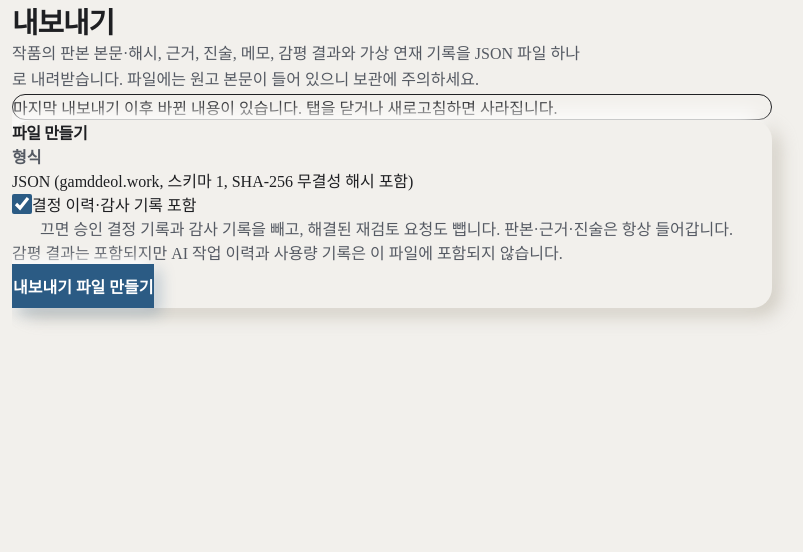
Test: 내보내기 저장 확인 › 이력 제외 파일은 누락을 알리고 저장 확인으로 변경 경고를 지우지 않는다
Later steps or results of the test are not shown.
Click the checkbox labelled "결정 이력·감사 기록 포함" at (22, 204), box [12,194,32,214]
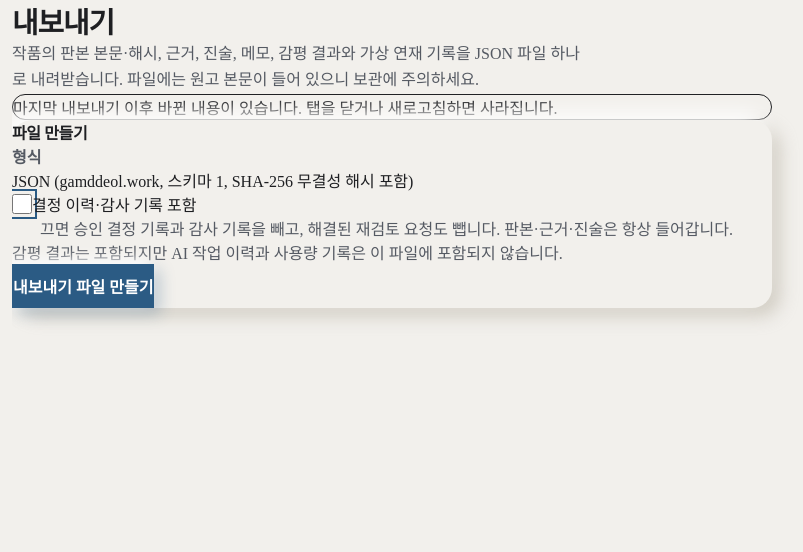
Click the button "내보내기 파일 만들기" at (83, 286), box [12,264,154,308]
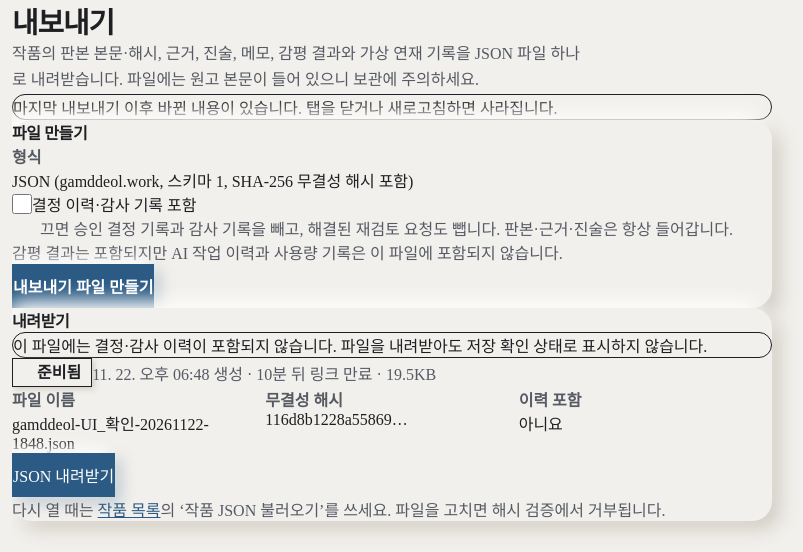
Check: the link "JSON 내려받기" is shown, box [12,453,115,497]
Check: the text "이 파일에는 결정·감사 이력이 포함되지 않습니다. 파일을 내려받아도 저장 확인 상태로 표시하지 않습니다." is shown, box [12,332,772,358]
